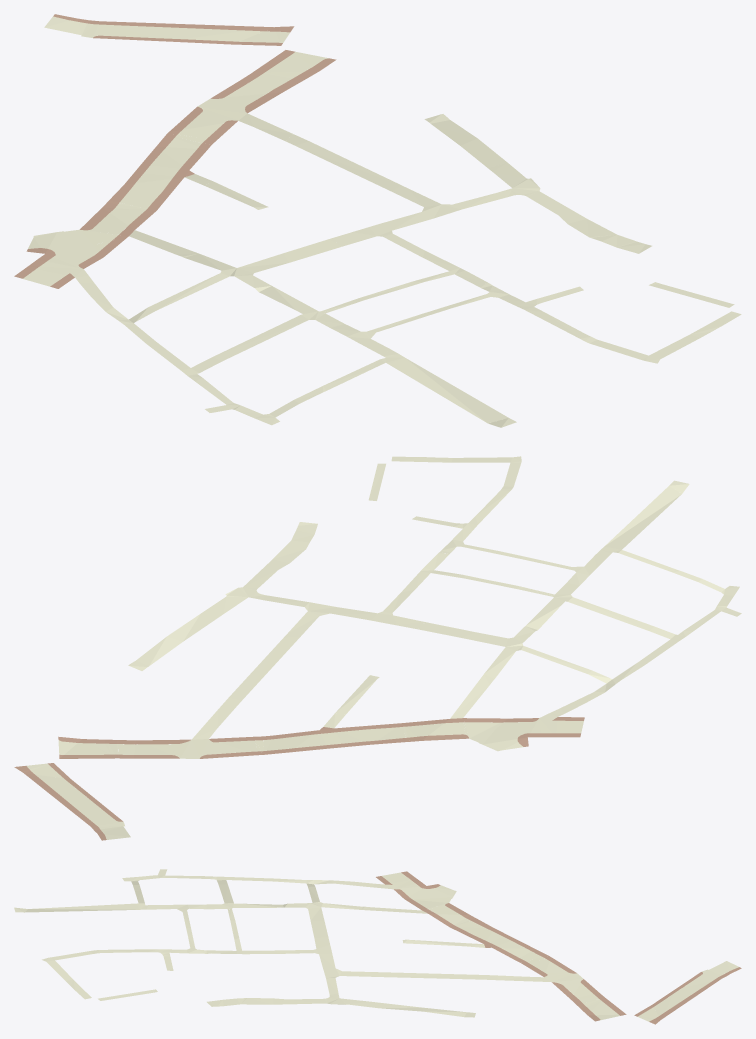
The model's file is data87.glb.
The picture shows the model from 3 angles, top to bottom: view 1: azimuth 30°, elevation 25°; view 2: azimuth 150°, elevation 25°; view 3: azimuth 270°, elevation 25°; orthographic projection. The views are drawn at different scales.
Bounding box in the file's own units: 161 × 14.12 × 328.
